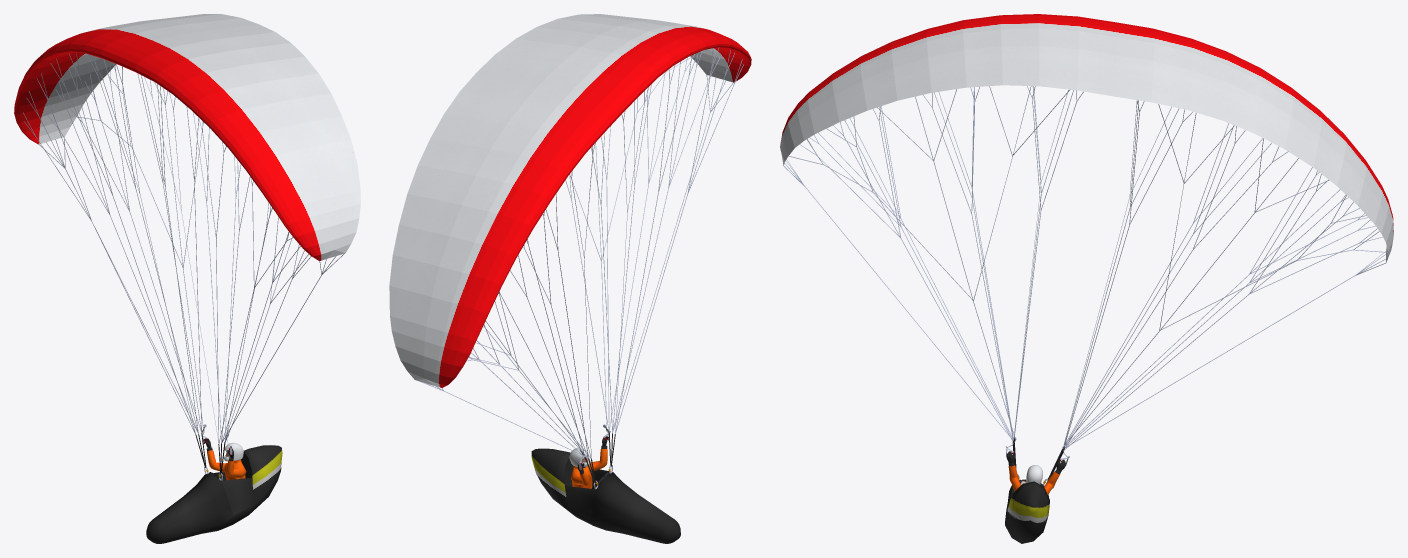
The model's file is paraglider-red-ridge-cbj_LOD00.gltf.
3 renders of one model, left to right at view 1: azimuth 30°, elevation 25°; view 2: azimuth 150°, elevation 25°; view 3: azimuth 270°, elevation 25°, orthographic. The views are drawn at different scales.
Visible parts, largest first — view 1: glider00; view 2: glider00; view 3: glider00.
Boxes of the visible parts, x1,y1,x2,y2 form: glider00: (14,14,360,543); glider00: (389,14,751,543); glider00: (780,14,1393,543).
Size of what is drawn, in the model's own units: 2.82 by 8.2 by 9.07.
